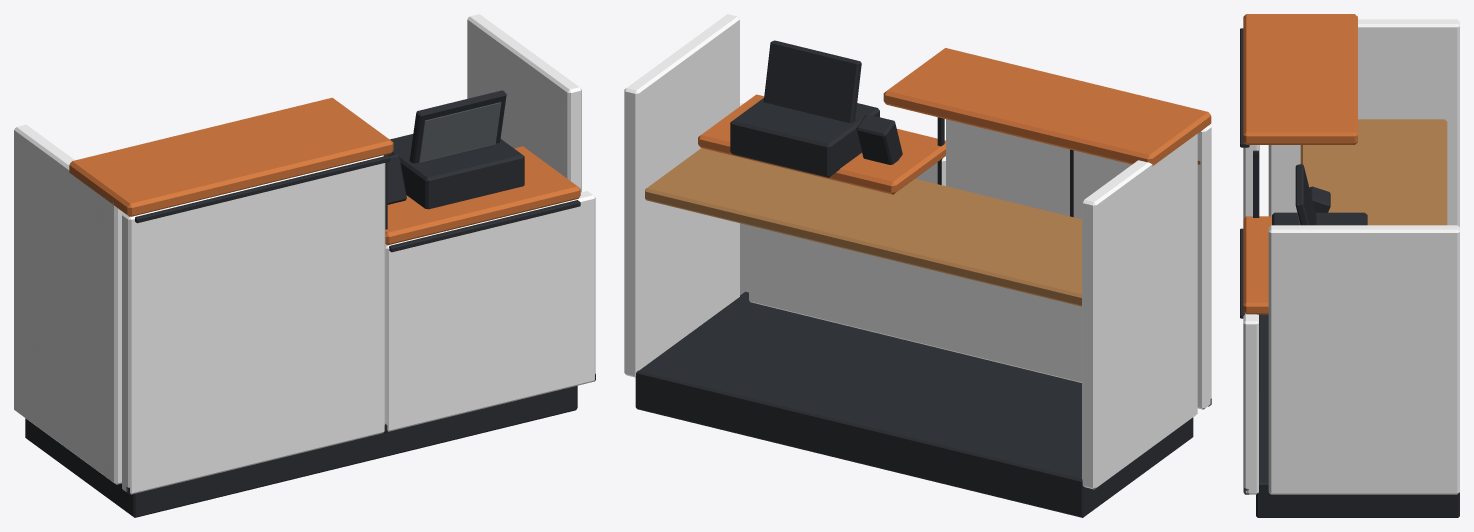
Rendered from counter-till.glb.
3 renders of one model, left to right at view 1: azimuth 30°, elevation 25°; view 2: azimuth 150°, elevation 25°; view 3: azimuth 270°, elevation 25°, orthographic. The views are drawn at different scales.
Parts seen in each view (by area): view 1: counter-till.tint, counter-till.graphite, counter-till.accent, counter-till.glass; view 2: counter-till.tint, counter-till.graphite, counter-till.wood, counter-till.accent; view 3: counter-till.tint, counter-till.accent, counter-till.wood, counter-till.graphite.
Boxes of the visible parts, box(x1,y1,x2,y2) form: counter-till.tint: box(14, 14, 595, 494); counter-till.graphite: box(25, 90, 595, 517); counter-till.accent: box(69, 97, 580, 245); counter-till.glass: box(419, 102, 500, 162); counter-till.tint: box(624, 14, 1211, 489); counter-till.graphite: box(635, 40, 1211, 517); counter-till.wood: box(645, 148, 1081, 306); counter-till.accent: box(698, 48, 1211, 194); counter-till.tint: box(1243, 19, 1459, 494); counter-till.accent: box(1243, 14, 1357, 314); counter-till.wood: box(1300, 119, 1447, 225); counter-till.graphite: box(1240, 28, 1459, 517).
Size of the model in its own units: 1.6 by 1.05 by 0.7.
